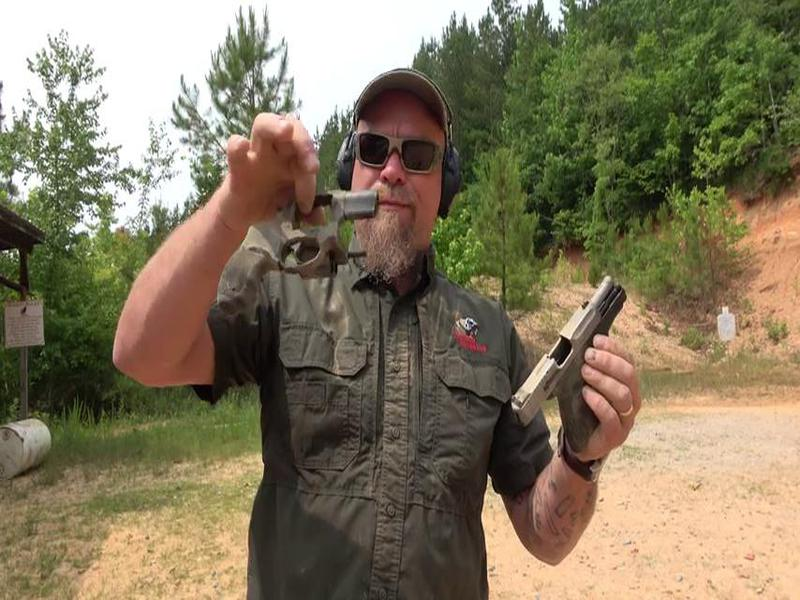Pistola: (482, 277, 692, 476)
Revolver: (202, 174, 392, 333)
